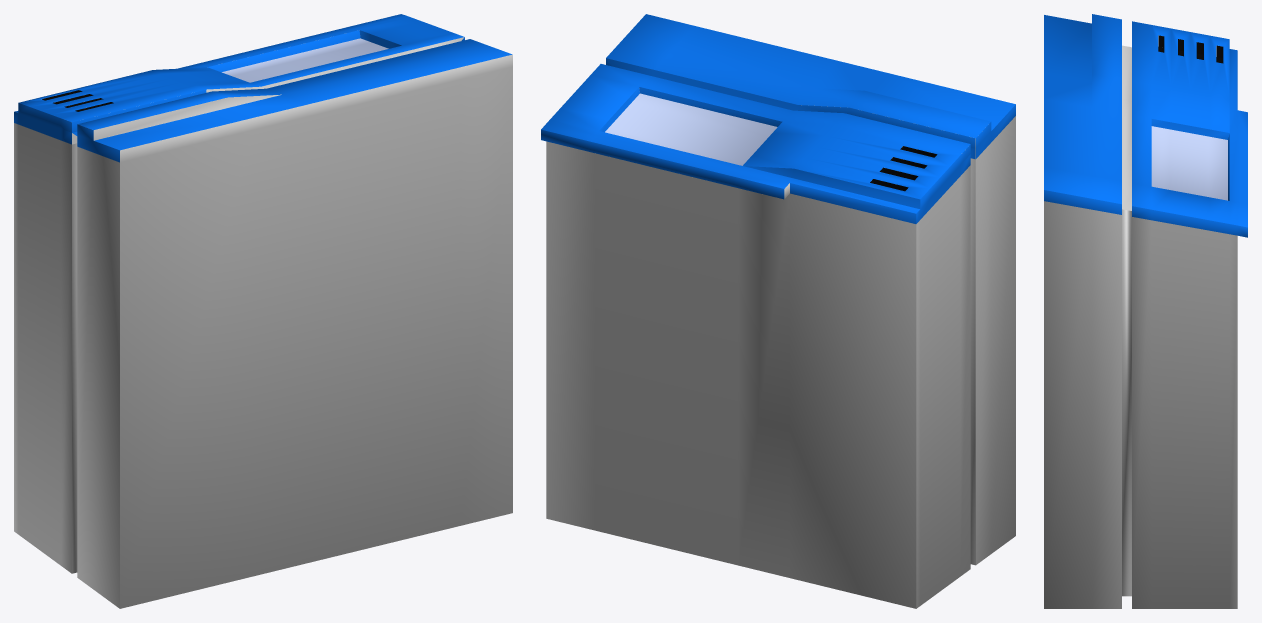
Rendered from АЭЛ.fbx.
3 renders of one model, left to right at view 1: azimuth 30°, elevation 25°; view 2: azimuth 150°, elevation 25°; view 3: azimuth 270°, elevation 25°, orthographic. The views are drawn at different scales.
Parts seen in each view (by area): view 1: Cube; view 2: Cube; view 3: Cube.
Part boxes in pixels (x1,y1,x2,y2): Cube: (14, 14, 512, 608); Cube: (541, 14, 1015, 608); Cube: (1044, 14, 1247, 608).
Bounding box in the file's own units: 39 × 43.58 × 19.18.
